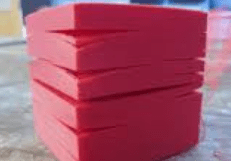crack: (48, 110, 128, 161), (38, 22, 150, 57), (70, 94, 202, 121), (46, 58, 148, 84), (161, 47, 208, 94), (22, 69, 46, 102)
